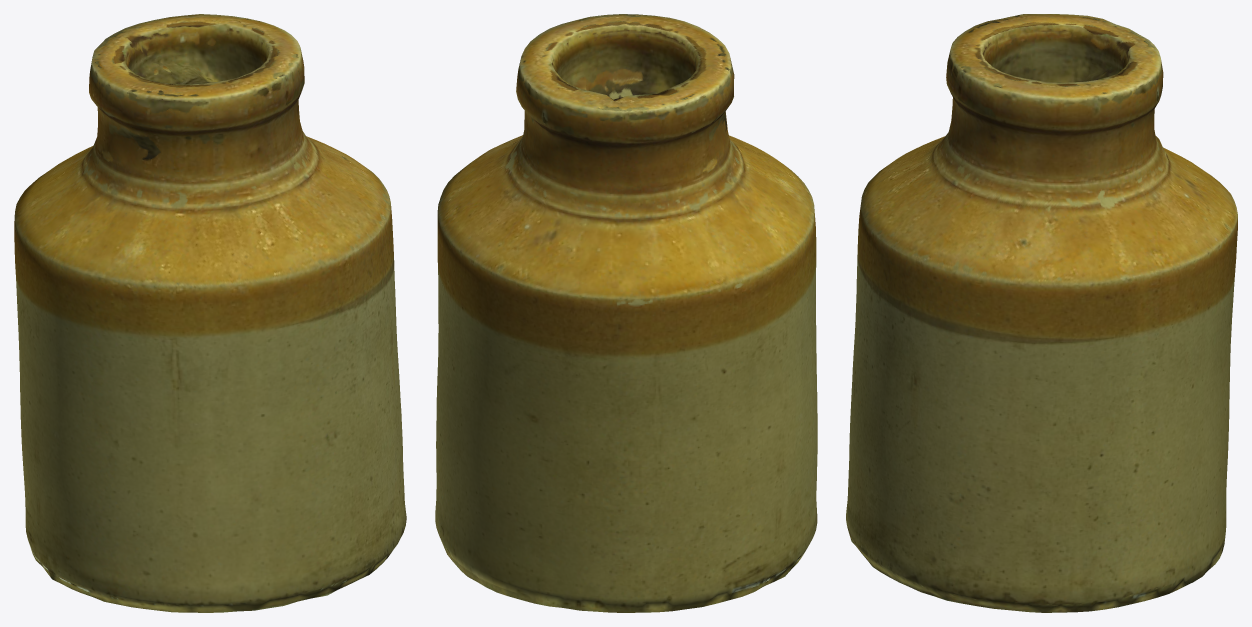
Rendered from lowpoly_BeigeJar.glb.
The picture shows the model from 3 angles, left to right: view 1: azimuth 30°, elevation 25°; view 2: azimuth 150°, elevation 25°; view 3: azimuth 270°, elevation 25°; orthographic projection.
Parts seen in each view (by area): view 1: lowpoly_beigevasew; view 2: lowpoly_beigevasew; view 3: lowpoly_beigevasew.
Boxes of the visible parts, bbox=[...] form: lowpoly_beigevasew: bbox=[14, 14, 406, 612]; lowpoly_beigevasew: bbox=[435, 14, 817, 612]; lowpoly_beigevasew: bbox=[846, 14, 1237, 612].
Bounding box in the file's own units: 19.85 × 27.53 × 20.05.
Materials: 1 (1 with a texture image).
